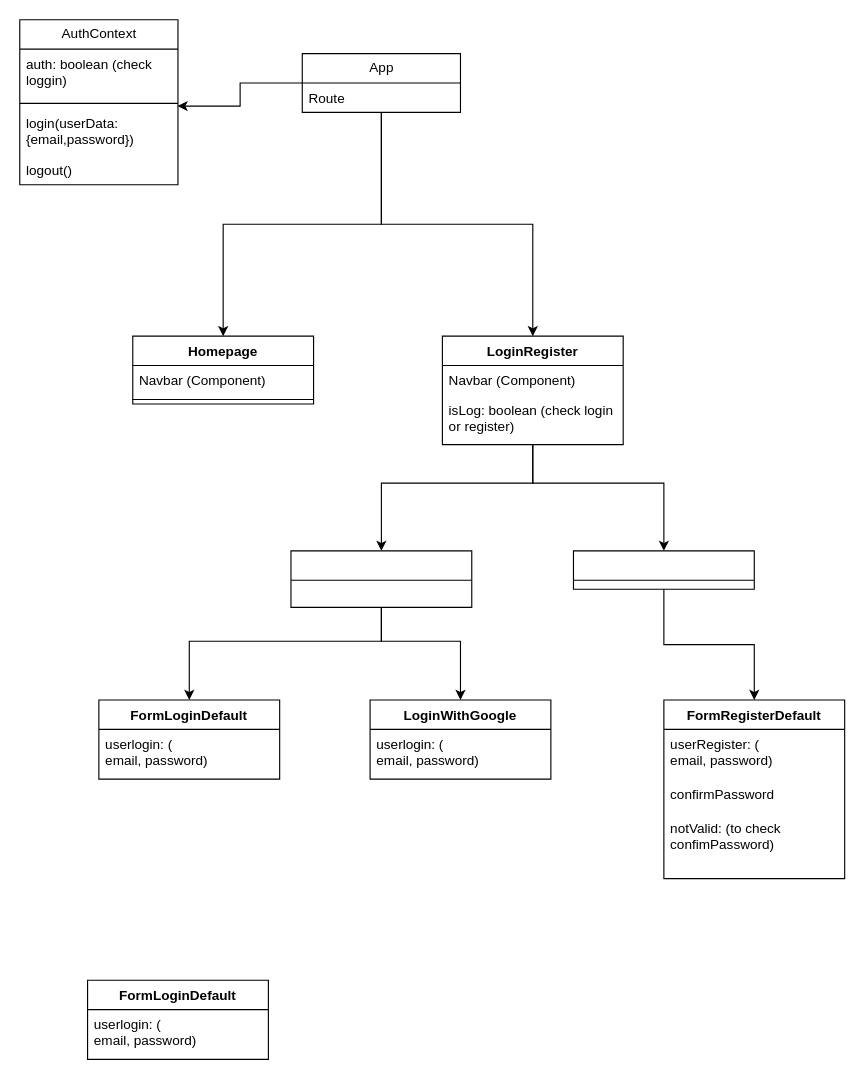
Some shapes in this 864 by 1083 pixel diagram are drawn without their labels. The centre of each missing label's shape, as x and y in pixels:
"LoginForm" belongs at (381,578).
"RegisterForm" belongs at (663,569).
